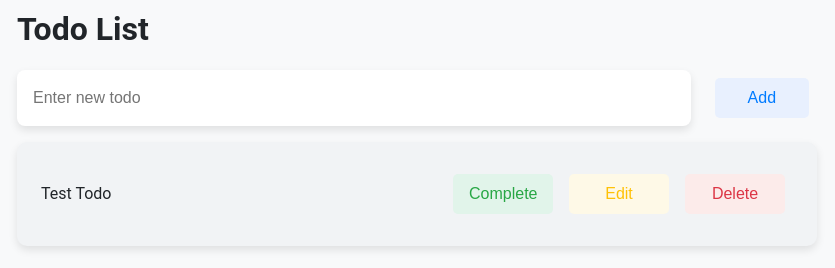
Test: TodoList Component › should toggle todo completion
Expected: the text "Test Todo" is shown, [41,184,112,203]
Click the complete button and wait for completion
Click the button "Complete". click: point(503, 194)
box: [453,174,553,214]
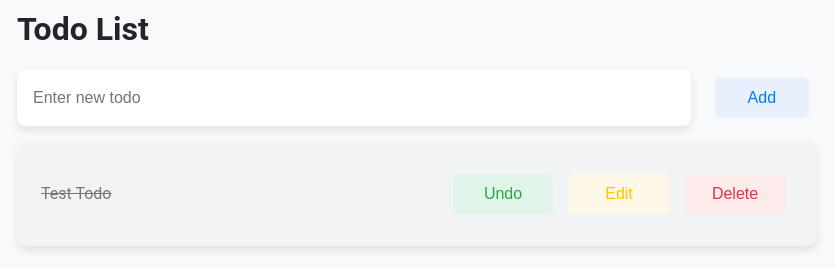
Result: the button "Undo" is shown at [453,174,553,214]
